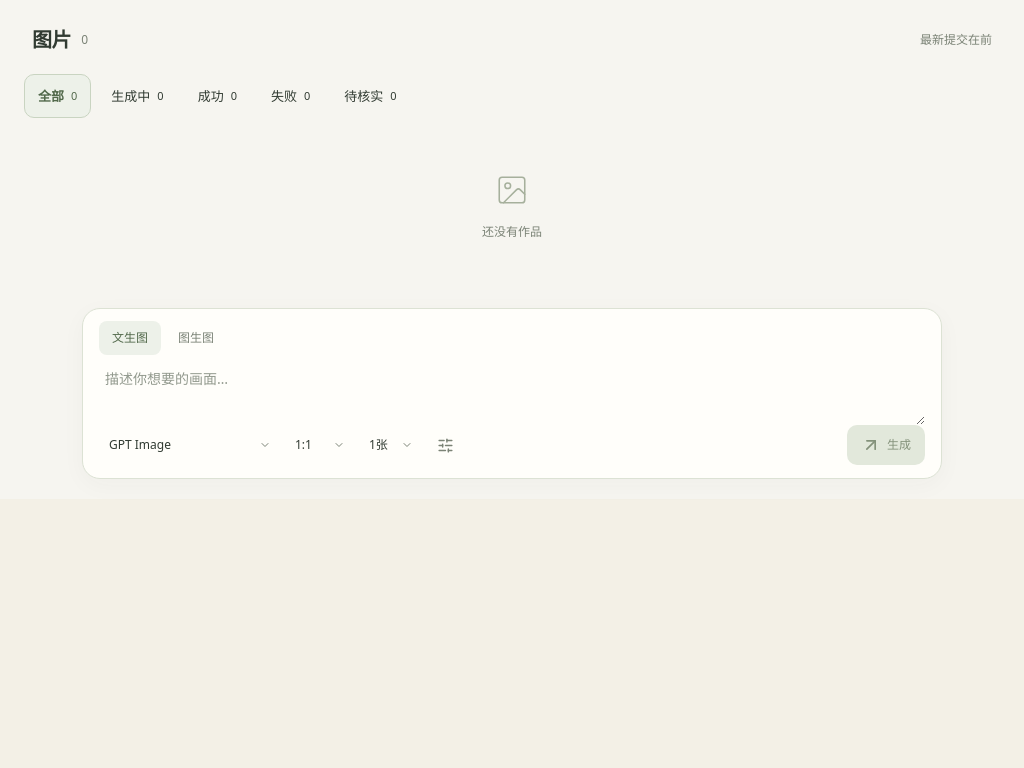
it: preserves the batch with an explicit checking state after a polling failure
Type "测试图片" into the text box at (512, 390), box x1=99 y1=355 x2=925 y2=425
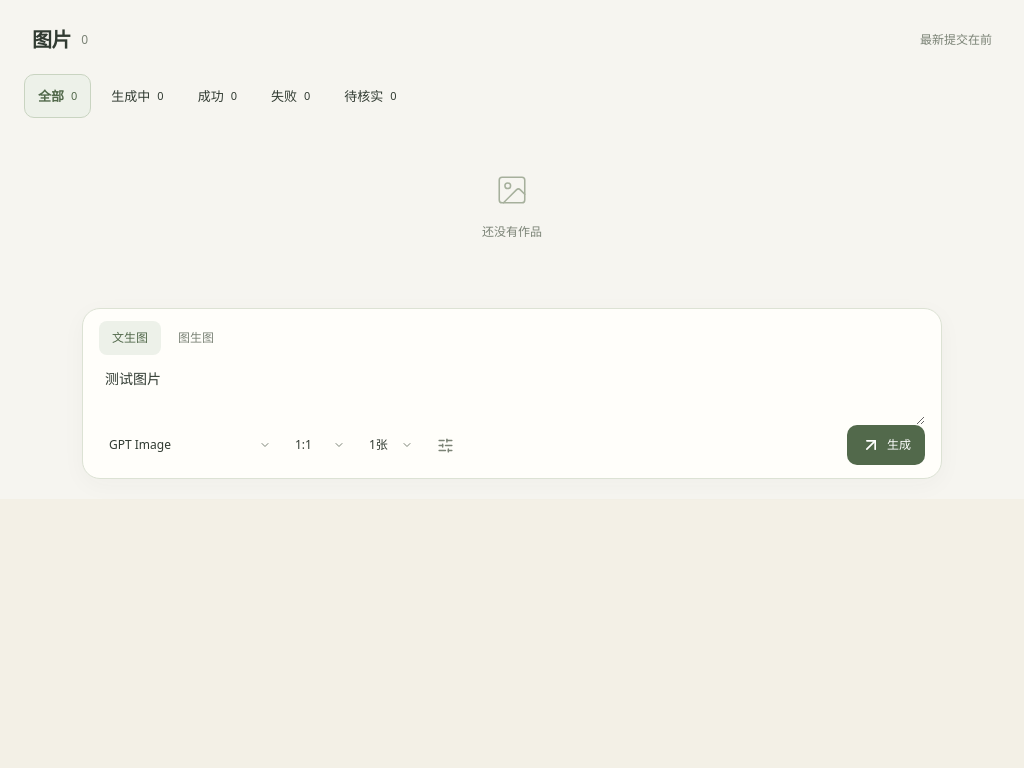
Click the button with aria-label "开始生成图片" at (886, 445), box x1=847 y1=425 x2=925 y2=465
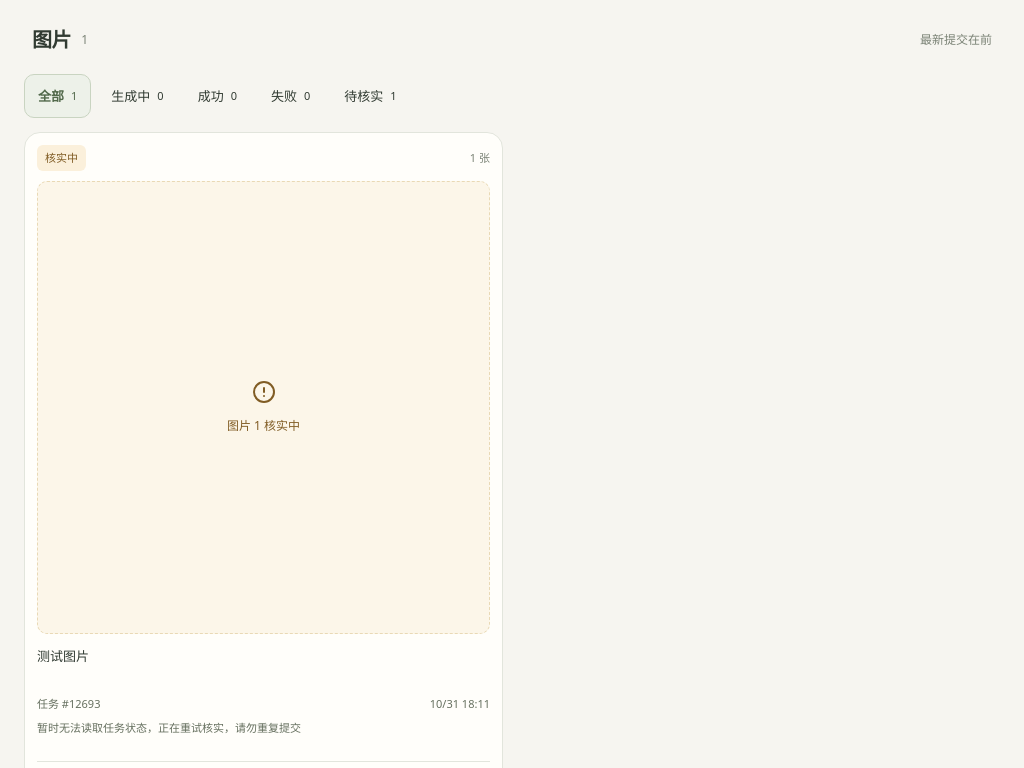
Check: the text with class "ig-task-status" reads "核实中", box x1=45 y1=150 x2=78 y2=165
Check: the element with class "ig-task-meta" shows "任务 #12693", box x1=37 y1=696 x2=100 y2=711
Check: the text "暂时无法读取任务状态，正在重试核实，请勿重复提交" is shown, box x1=37 y1=720 x2=301 y2=735
